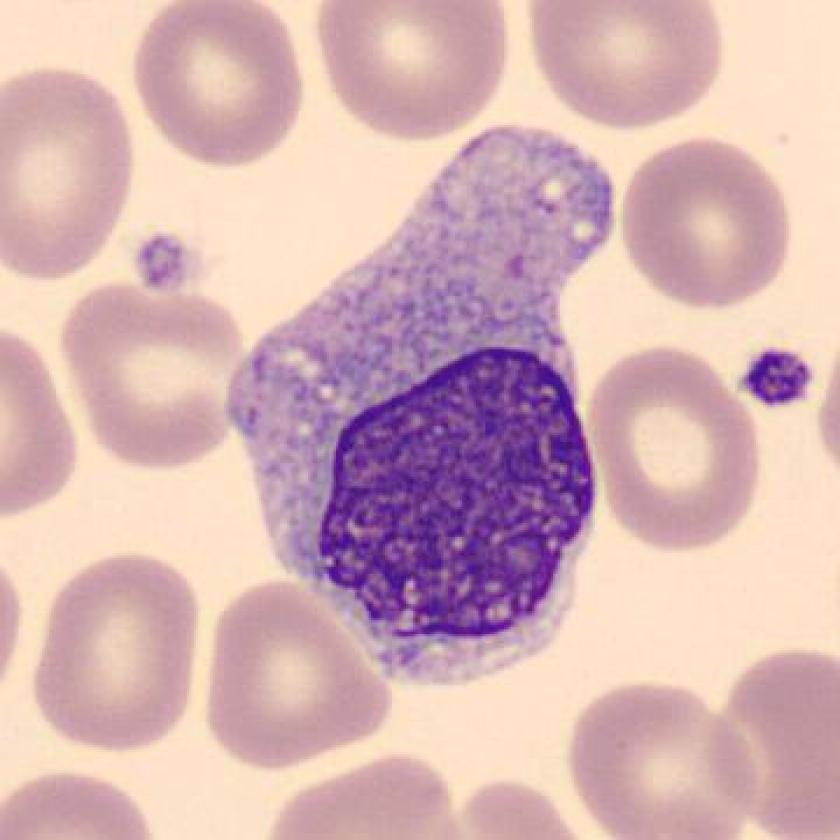monocyte: (200, 107, 648, 700)
